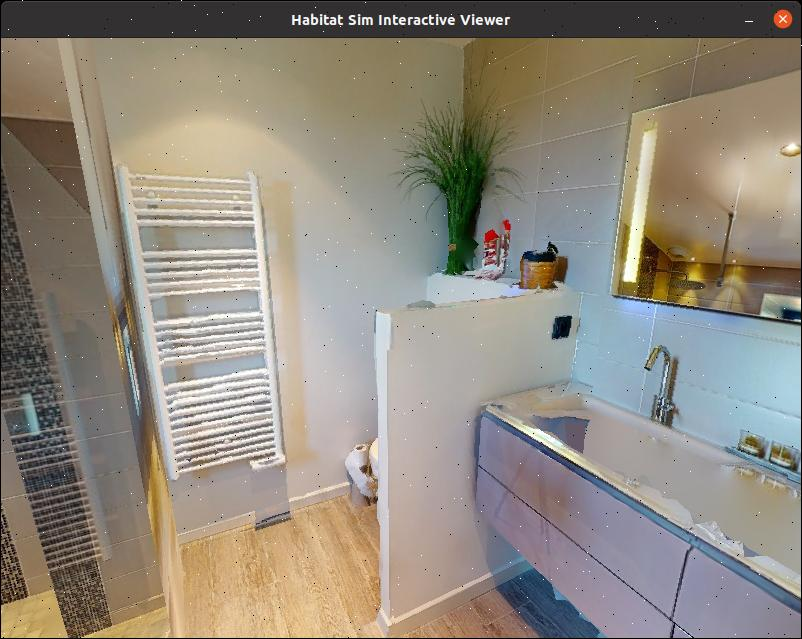sink: (535, 319, 794, 574)
